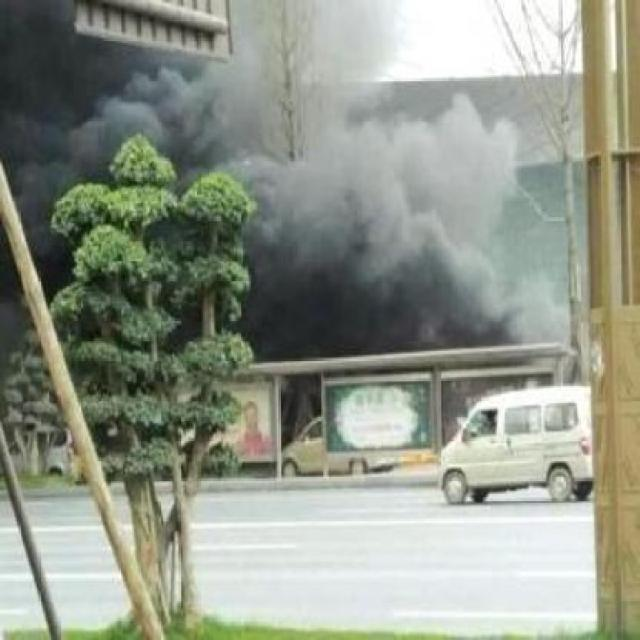Smoke: (246, 102, 584, 354), (2, 44, 248, 198)
